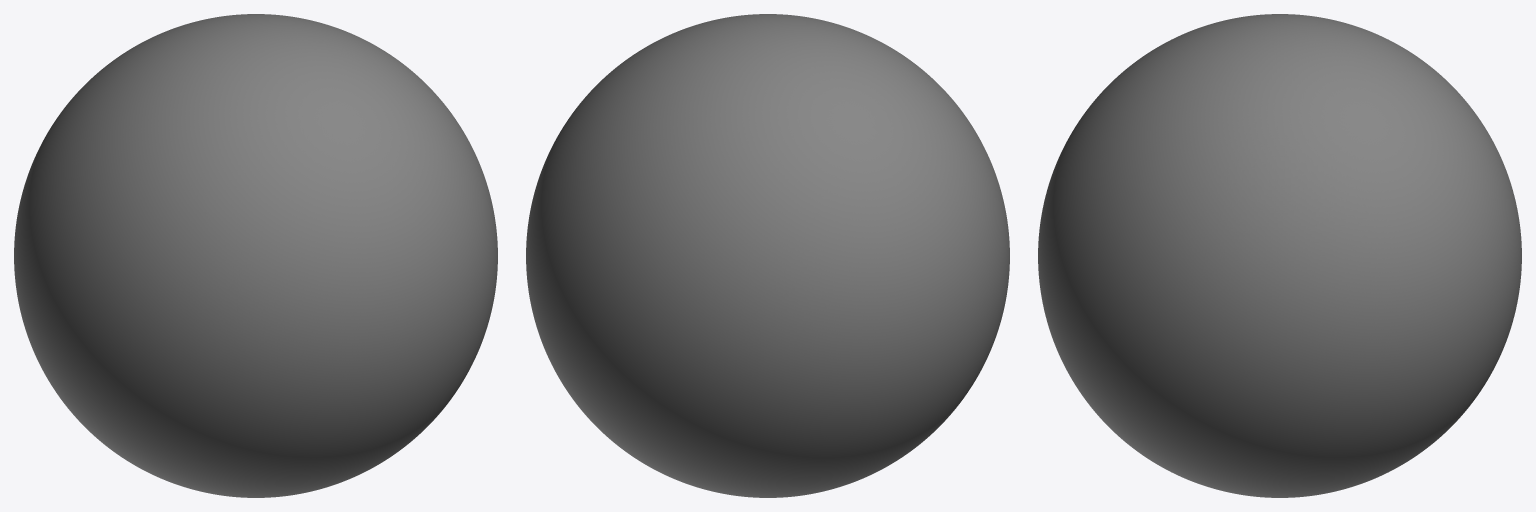
File: cellMembrane_sphere_LK_v04_reversed.fbx
3 views of the same model, side by side, from view 1: azimuth 30°, elevation 25°; view 2: azimuth 150°, elevation 25°; view 3: azimuth 270°, elevation 25° (orthographic).
Parts seen in each view (by area): view 1: quadSphere4; view 2: quadSphere4; view 3: quadSphere4.
Part boxes in pixels (box(x1,y1,x2,y2)): quadSphere4: box(14, 14, 497, 497); quadSphere4: box(526, 14, 1009, 497); quadSphere4: box(1038, 14, 1521, 497).
Size of the model in its own units: 14201 by 14201 by 14201.
